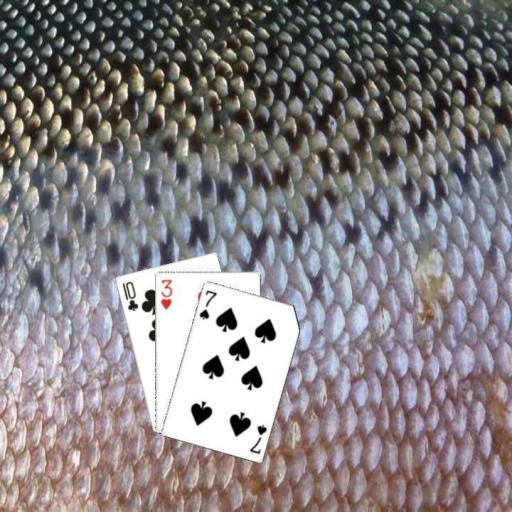card-corner: (196, 286, 218, 320), (246, 421, 268, 455), (119, 278, 139, 313), (158, 276, 173, 310)
